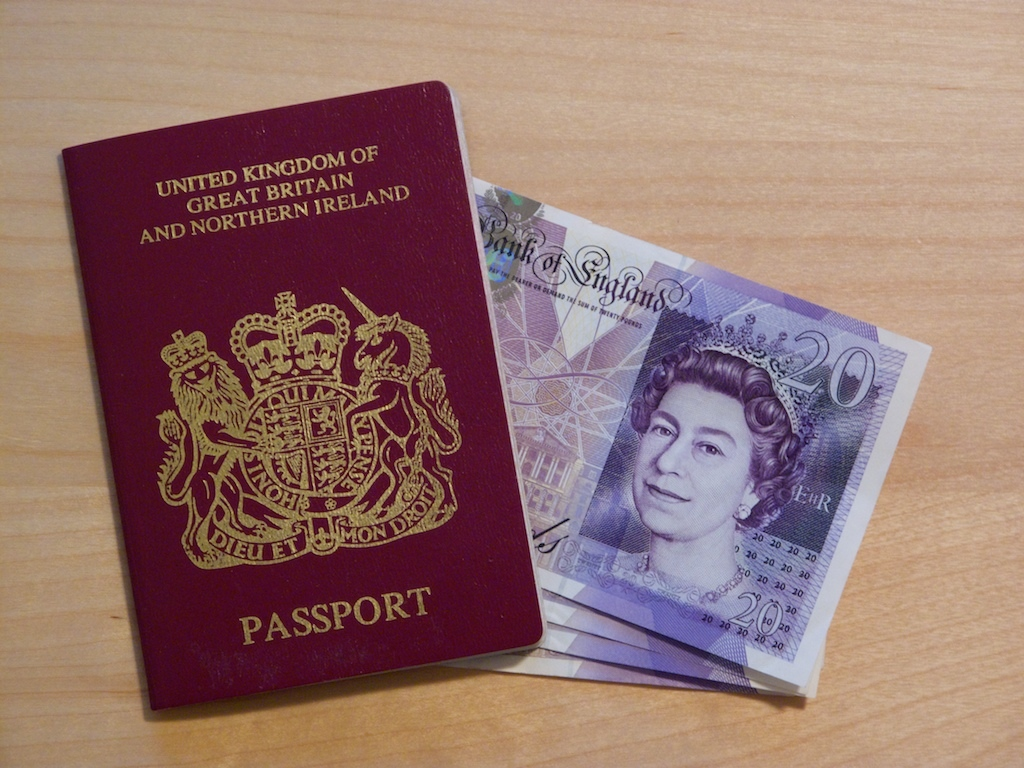Person: (597, 314, 824, 625)
